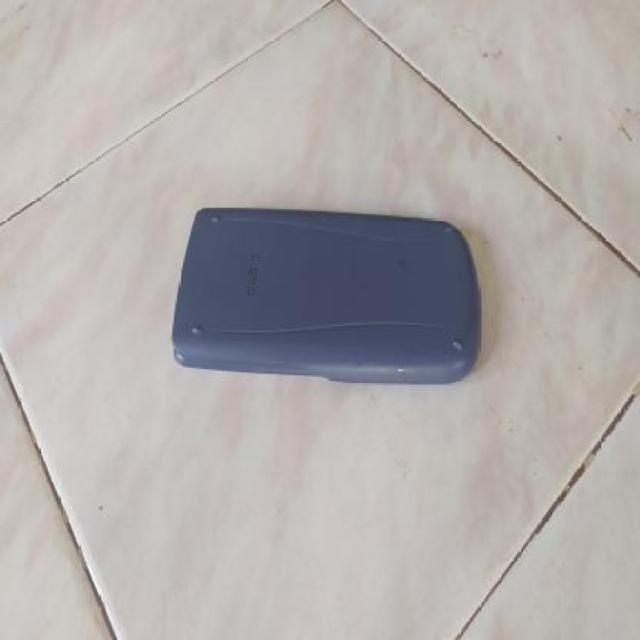Calculator: (163, 196, 491, 404)
